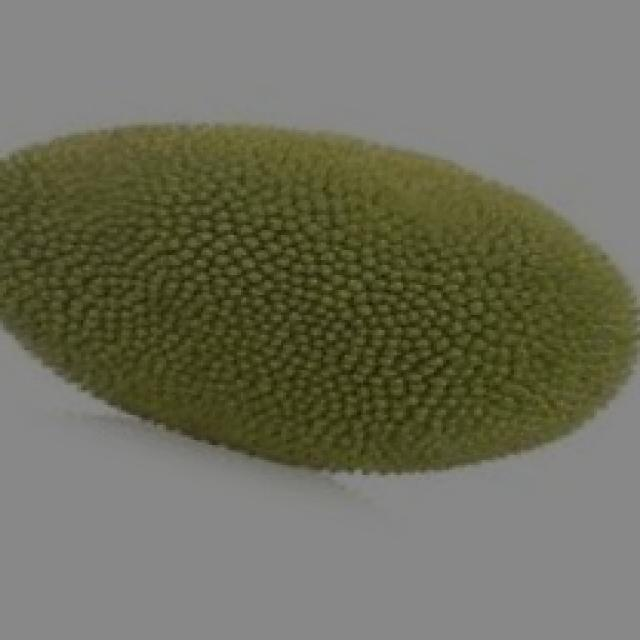Fruit: (255, 108, 640, 500), (0, 100, 394, 468)
